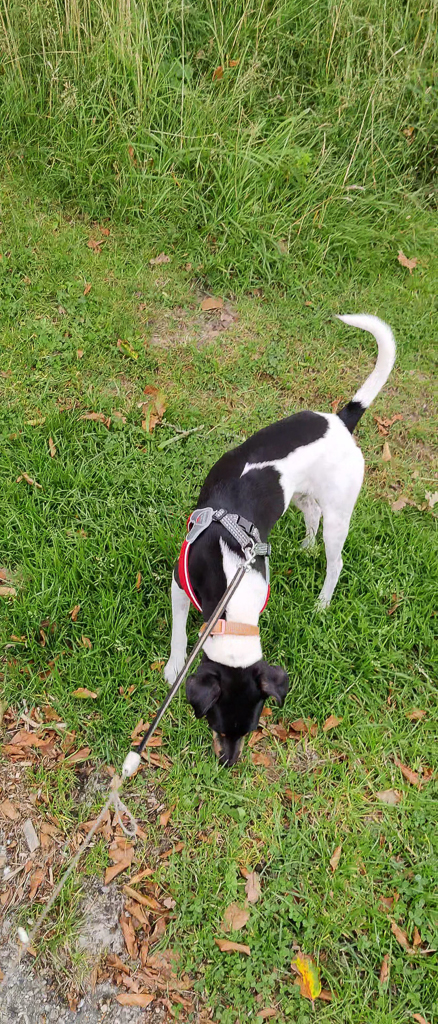Dog: (139, 291, 416, 782)
